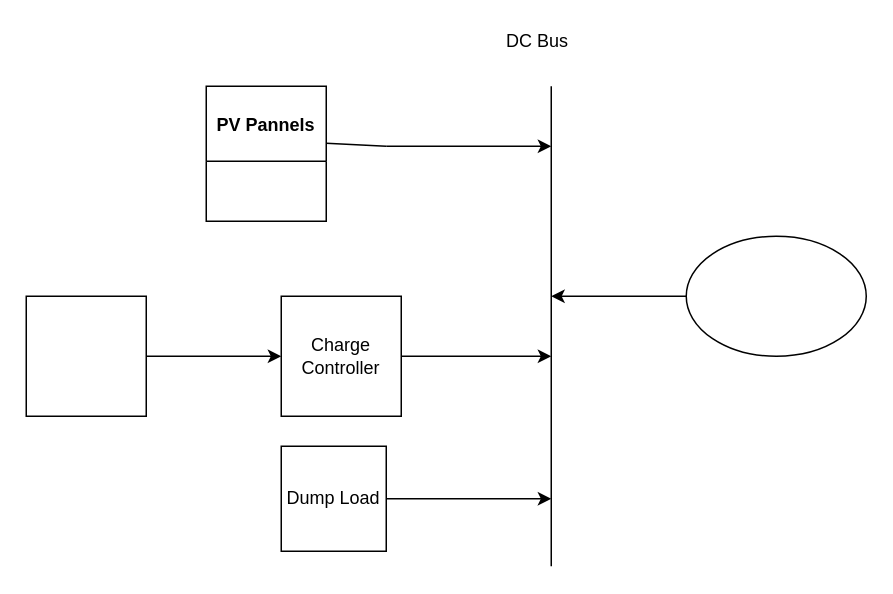
Some shapes in this 893 by 594 pixel diagram are drawn without their labels. The shapes that lost their labels are listed below. From the top down, each one's centre as x and y in pixels, then its label:
At (775,295): "Electrical Load".
At (85,355): "Battery Banks".
